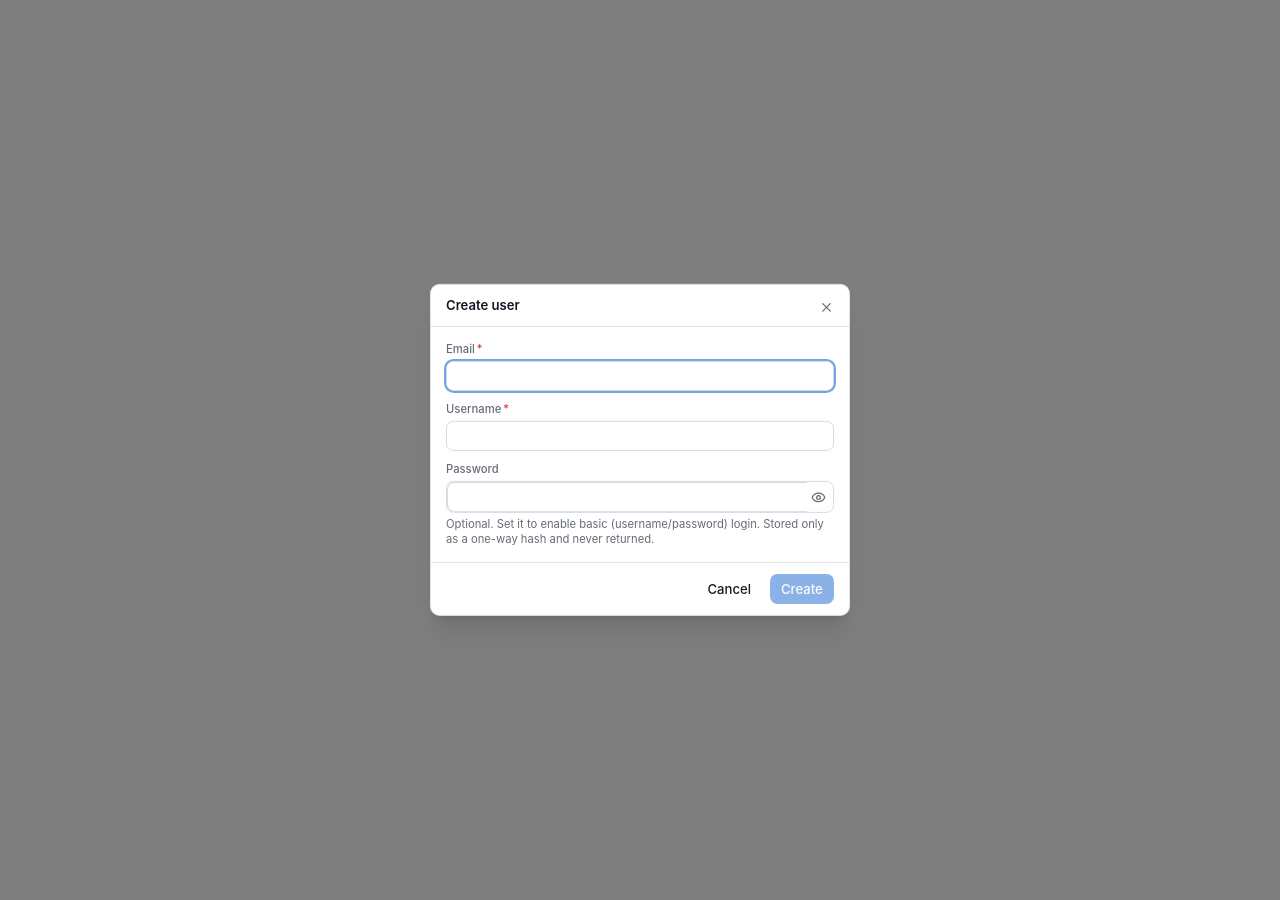
it: UserCreateDialog › disables Create until both email and username are provided
The image size is (1280, 900).
Expected: the button "Create" is disabled, [770,574,834,604]
Step 1. Type "alice@example.com" into the field labelled "Email" → (640,376), box [446,361,834,391]
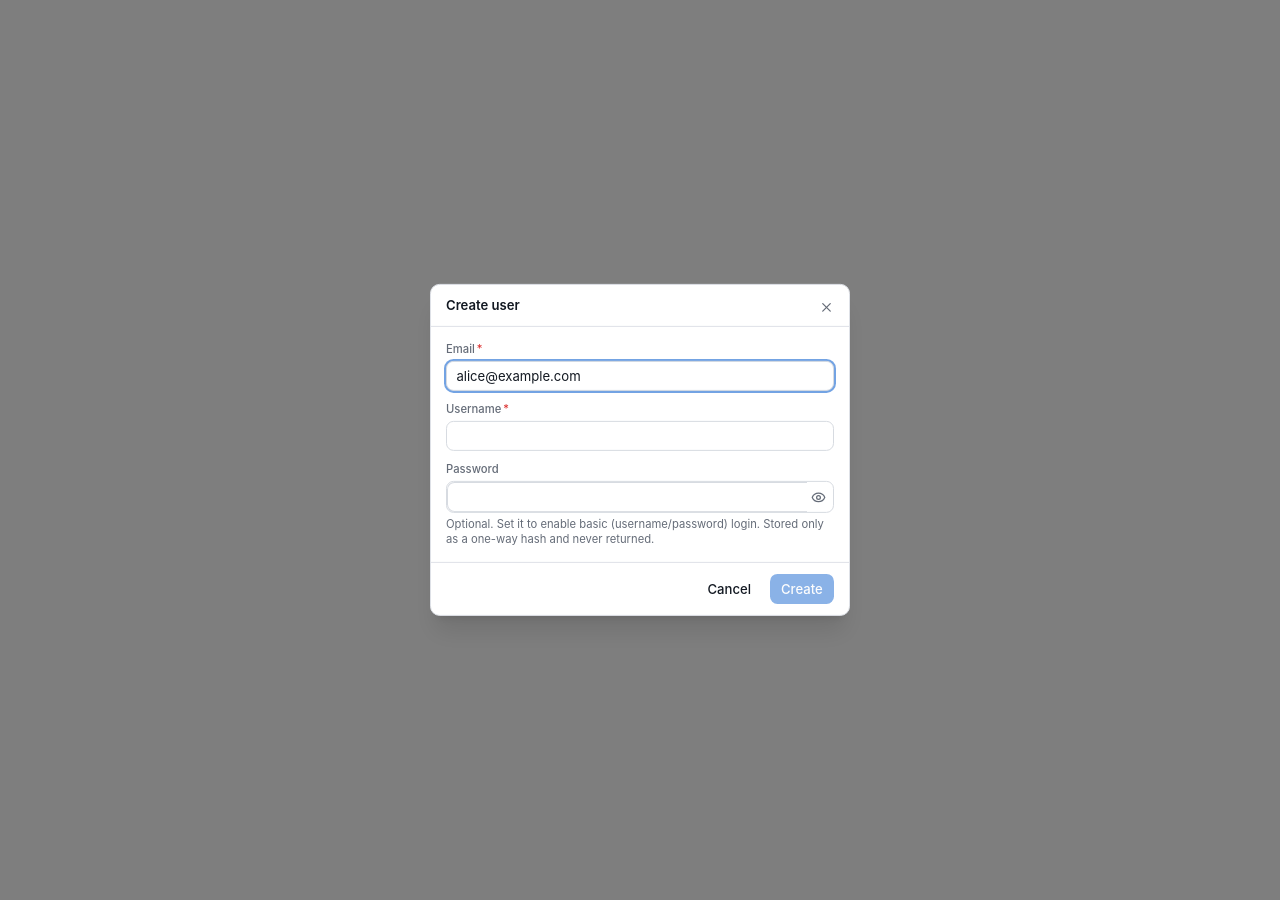
Expected: the button "Create" is disabled, [770,574,834,604]
Step 2. Type "alice" into the field labelled "Username" → (640,436), box [446,421,834,451]
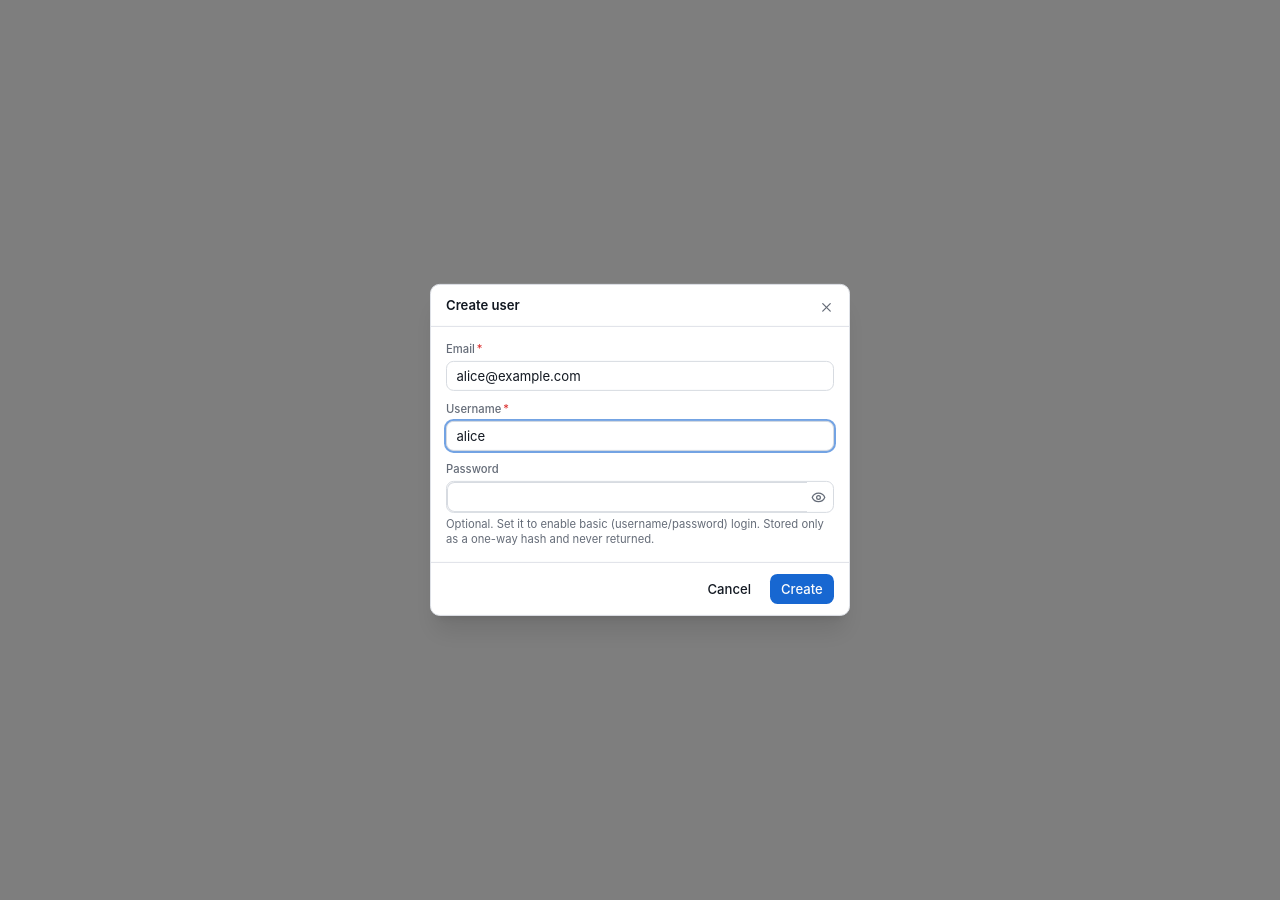
Expected: the button "Create" is enabled, [770,574,834,604]
